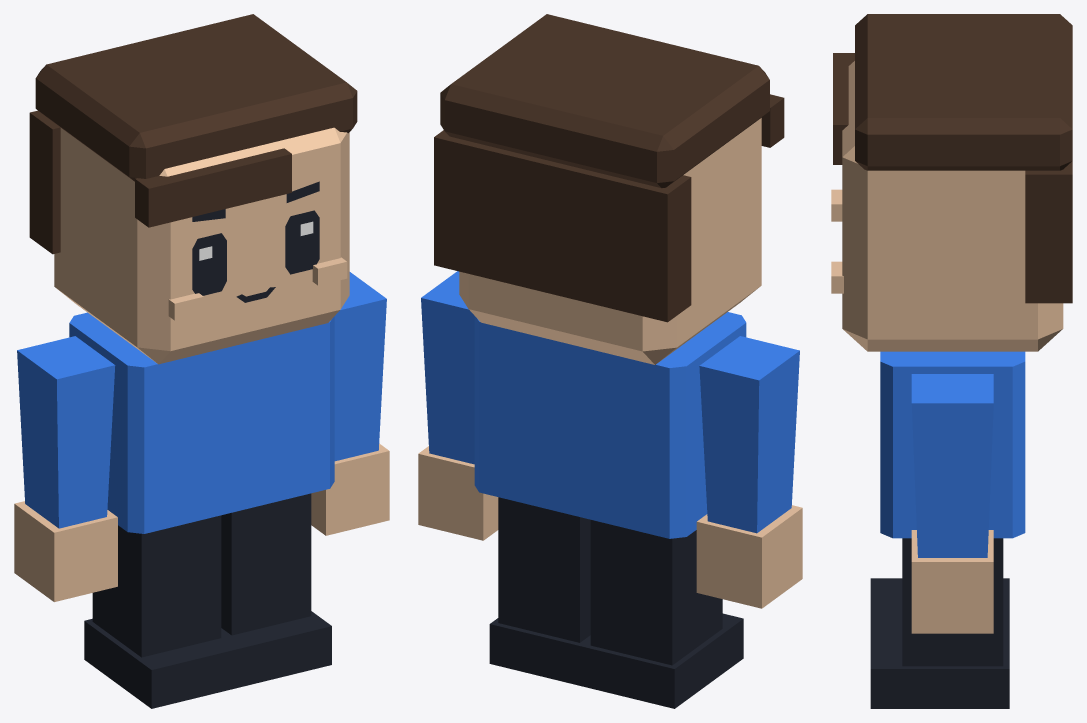
File: avatar.glb
The picture shows the model from 3 angles, left to right: view 1: azimuth 30°, elevation 25°; view 2: azimuth 150°, elevation 25°; view 3: azimuth 270°, elevation 25°; orthographic projection. The views are drawn at different scales.
Visible parts, largest first — view 1: hair, head, body, arm_R, leg_R, leg_L, arm_L, shoe_R, hand_R, face, hand_L, shoe_L; view 2: hair, body, head, arm_R, leg_R, leg_L, arm_L, hand_R, shoe_R, hand_L, shoe_L; view 3: hair, head, body, arm_L, shoe_L, hand_L, leg_L, shoe_R, face.
Boxes of the visible parts, x1,y1,x2,y2 form: hair: [29, 14, 357, 254]; head: [54, 127, 349, 364]; body: [69, 312, 334, 533]; arm_R: [17, 336, 115, 528]; leg_R: [92, 515, 221, 657]; leg_L: [221, 493, 311, 635]; arm_L: [334, 272, 386, 461]; shoe_R: [84, 618, 241, 708]; hand_R: [14, 501, 117, 601]; face: [168, 181, 347, 320]; hand_L: [311, 443, 389, 535]; shoe_L: [221, 611, 331, 686]; hair: [434, 14, 784, 322]; body: [474, 312, 746, 538]; head: [459, 118, 761, 364]; arm_R: [699, 336, 799, 533]; leg_R: [590, 520, 722, 665]; leg_L: [498, 497, 590, 642]; arm_L: [421, 271, 474, 464]; hand_R: [696, 505, 802, 608]; shoe_R: [582, 613, 743, 708]; hand_L: [418, 446, 498, 540]; shoe_L: [489, 618, 590, 686]; hair: [833, 14, 1072, 303]; head: [842, 61, 1063, 351]; body: [880, 351, 1025, 538]; arm_L: [911, 374, 993, 557]; shoe_L: [870, 623, 1009, 708]; hand_L: [911, 530, 993, 633]; leg_L: [902, 538, 1003, 666]; shoe_R: [870, 578, 1009, 623]; face: [831, 189, 843, 293].
Bounding box in the file's own units: 1.26 × 2.09 × 0.765.
